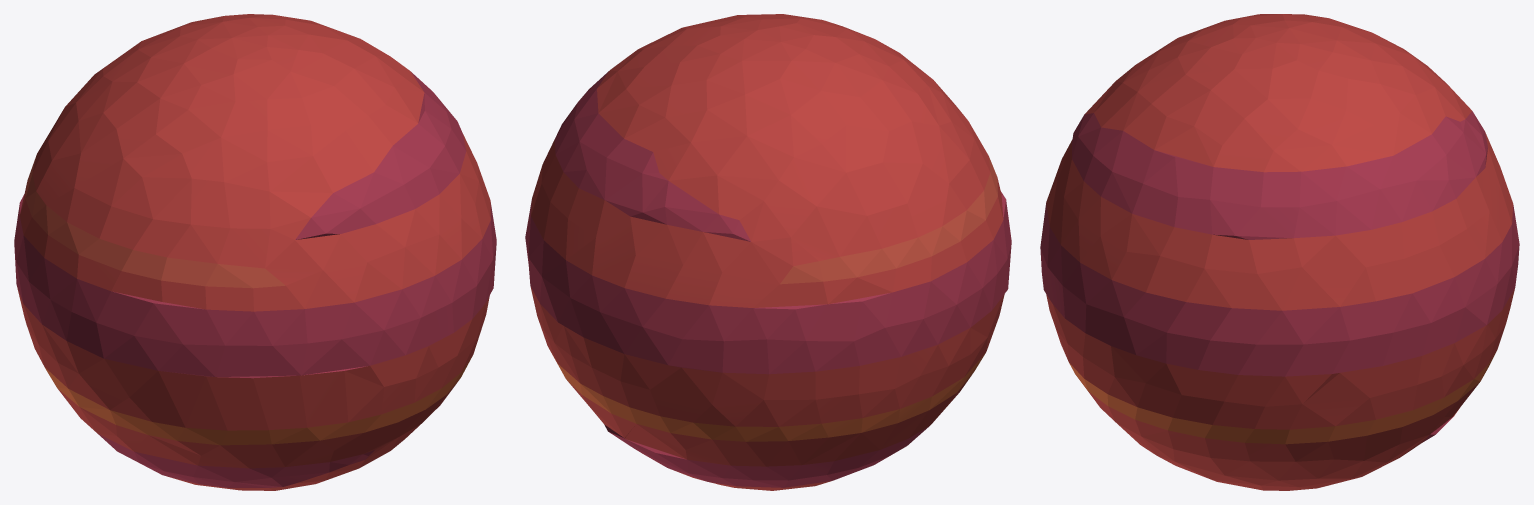
Rendered from Gas_Giant_05.fbx.
3 views of the same model, side by side, from view 1: azimuth 30°, elevation 25°; view 2: azimuth 150°, elevation 25°; view 3: azimuth 270°, elevation 25° (orthographic).
Visible parts, largest first — view 1: Gas_Giant_05_Base; view 2: Gas_Giant_05_Base; view 3: Gas_Giant_05_Base.
Boxes of the visible parts, <box> form: Gas_Giant_05_Base: <box>14,14,496,490</box>; Gas_Giant_05_Base: <box>525,14,1011,490</box>; Gas_Giant_05_Base: <box>1040,14,1519,490</box>.
Size of what is drawn, in the model's own units: 18227 by 18002 by 18132.
Materials: 1 (1 with a texture image).
